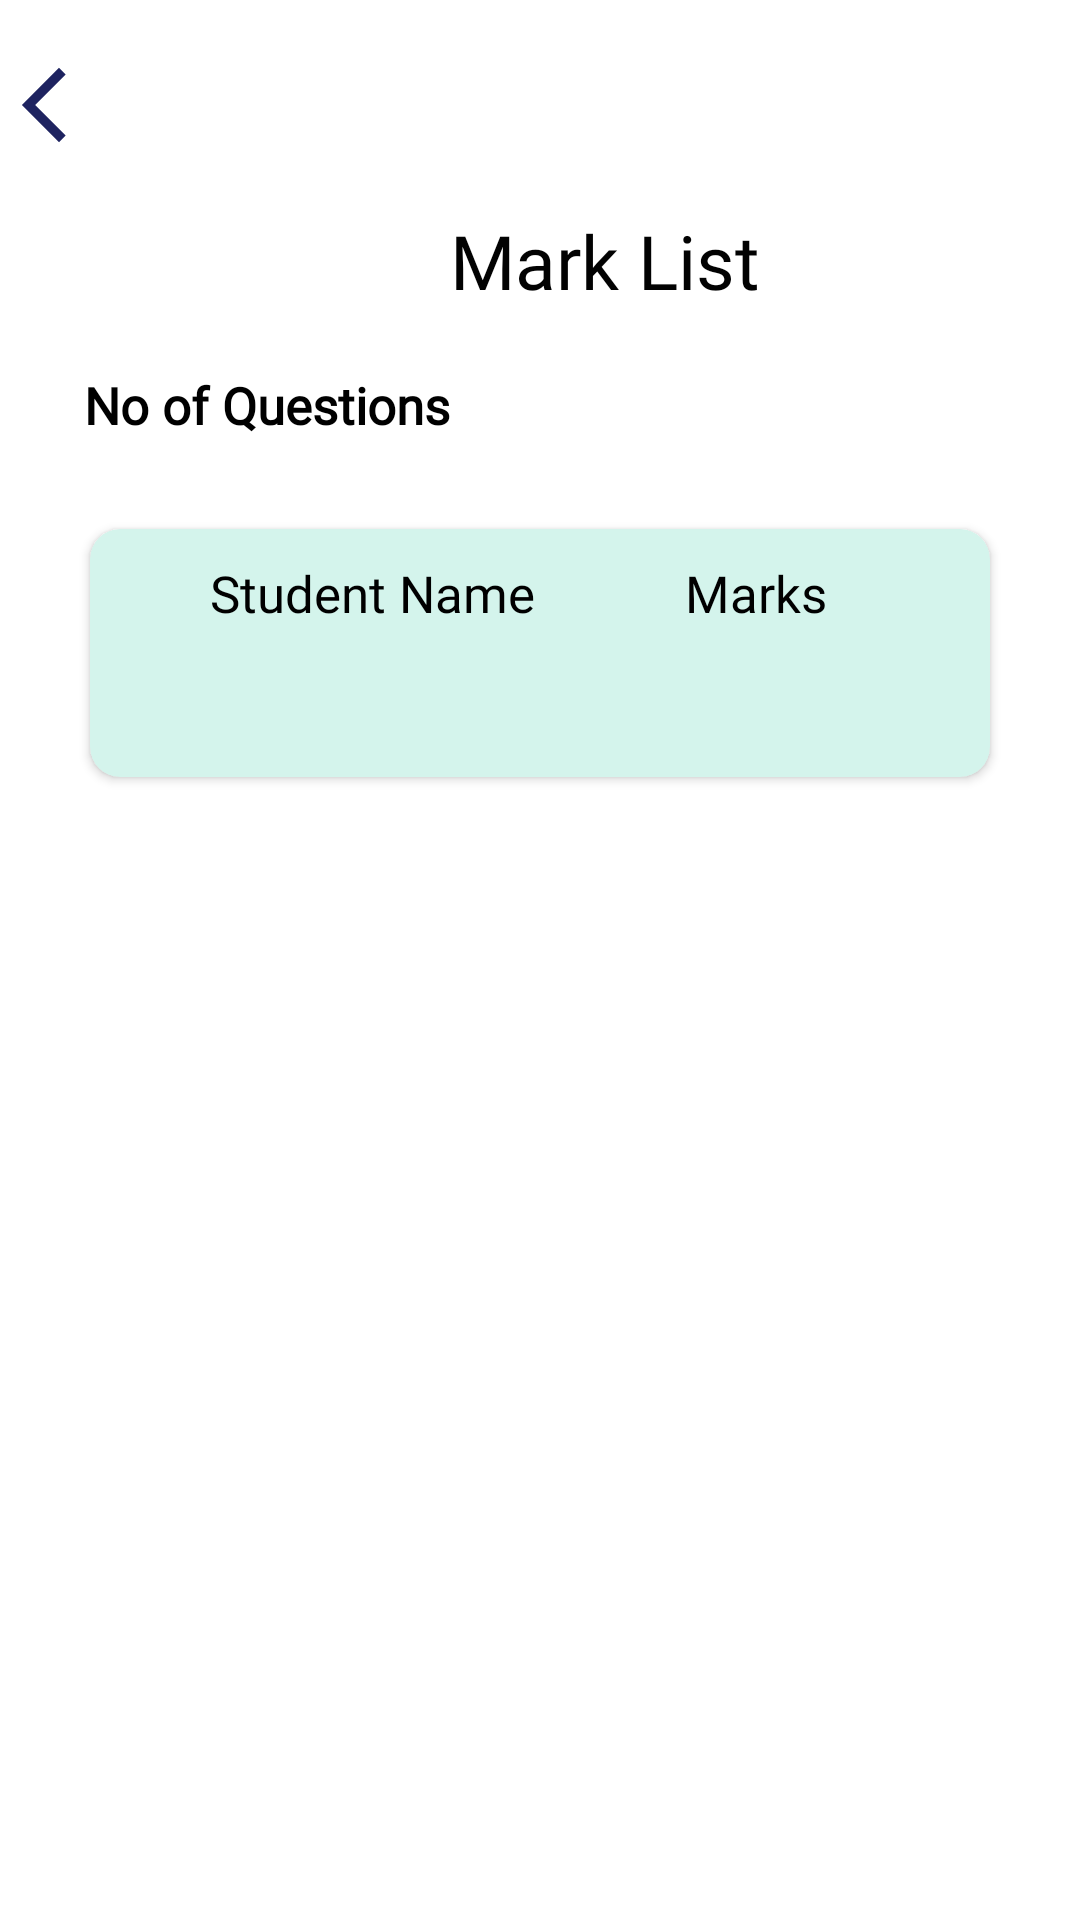

Where to tap for icons on this 1080 x 1920 app screen, as (x=x, y=y):
arrow back: (x=44, y=105)
